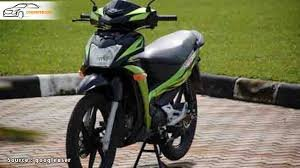motor: (54, 3, 204, 168)
